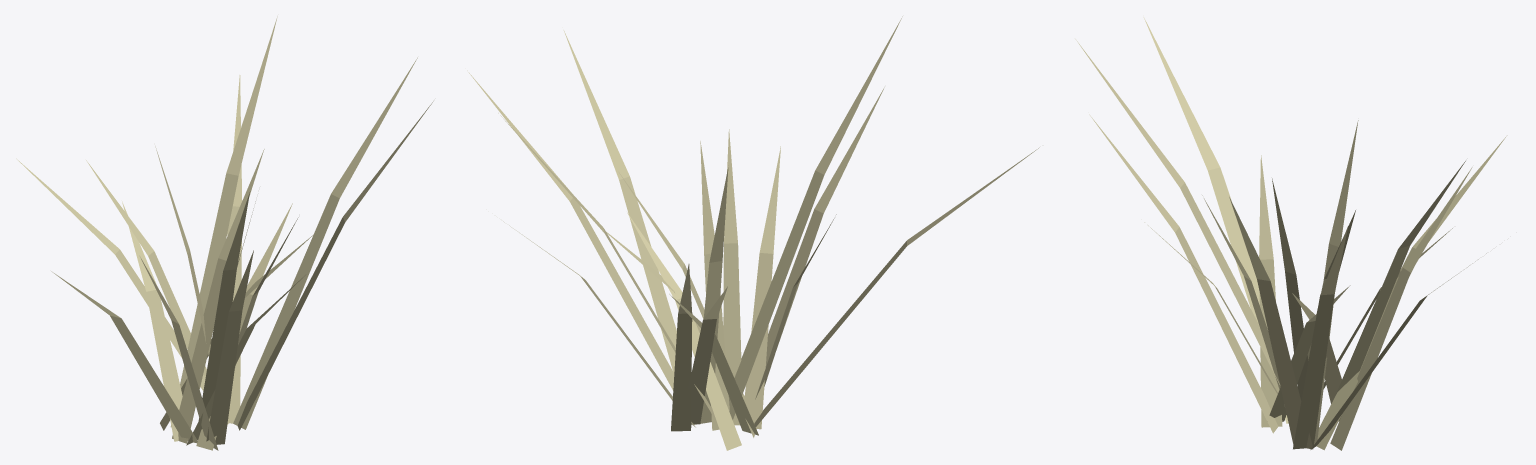
The model's file is grass.glb.
3 renders of one model, left to right at view 1: azimuth 30°, elevation 25°; view 2: azimuth 150°, elevation 25°; view 3: azimuth 270°, elevation 25°, orthographic. The views are drawn at different scales.
Visible parts, largest first — view 1: Grass; view 2: Grass; view 3: Grass.
Boxes of the visible parts, x1,y1,x2,y2 form: Grass: (16, 16, 433, 450); Grass: (467, 16, 1039, 450); Grass: (1075, 17, 1507, 450).
Size of the model in its own units: 0.6542 by 0.4538 by 0.5092.
